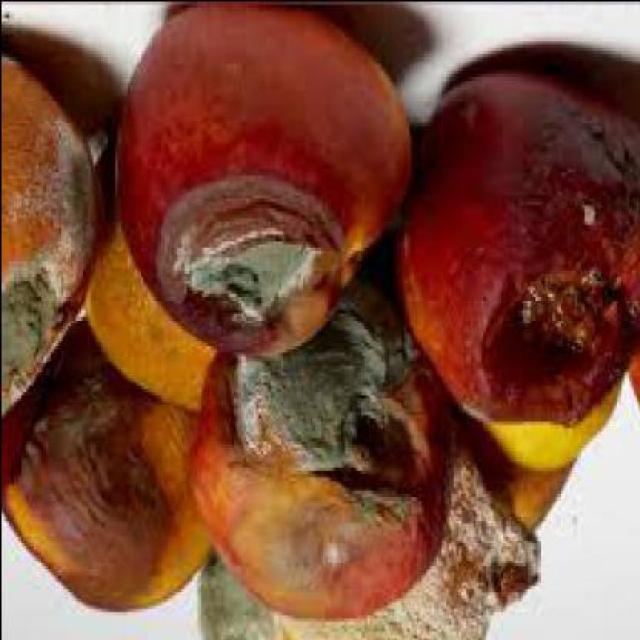BIODEGRADABLE: (118, 3, 416, 362), (192, 279, 457, 624), (397, 65, 638, 429), (200, 436, 543, 638), (2, 318, 215, 614), (2, 52, 107, 420), (86, 131, 220, 414), (464, 420, 578, 534), (484, 381, 625, 473)
